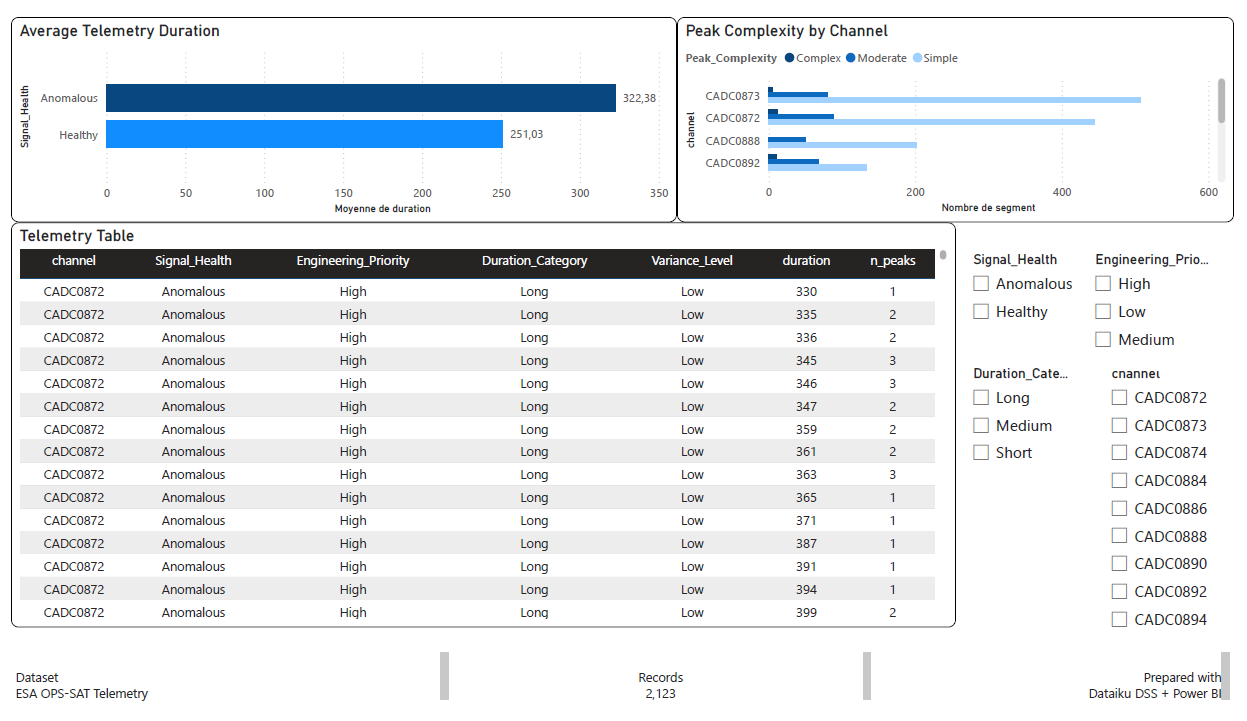

The dashboard page shown, as its layout file describes it:
{"tool":"powerbi","page":{"name":"Page 2","canvas":[1280,720],"ordinal":1},"visuals":[{"type":"tableEx","title":"Telemetry Table","fields":{"Values":["Telemetry_Feature_Engineered.channel","Telemetry_Feature_Engineered.Signal_Health","Telemetry_Feature_Engineered.Engineering_Priority","Telemetry_Feature_Engineered.Duration_Category","Telemetry_Feature_Engineered.Variance_Level","Telemetry_Feature_Engineered.duration","Telemetry_Feature_Engineered.n_peaks"]},"box":[0,214.6,988.9,424.9],"z":0},{"type":"slicer","fields":{"Values":["Telemetry_Feature_Engineered.channel"]},"box":[1138.7,360.1,141.3,299.6],"z":1000},{"type":"slicer","fields":{"Values":["Telemetry_Feature_Engineered.Signal_Health"]},"box":[994.3,241.1,137,90.3],"z":2000},{"type":"slicer","fields":{"Values":["Telemetry_Feature_Engineered.Engineering_Priority"]},"box":[1121.7,241.1,158.3,128.5],"z":3000},{"type":"slicer","fields":{"Values":["Telemetry_Feature_Engineered.Duration_Category"]},"box":[994.3,360.1,137,123.2],"z":4000},{"type":"barChart","title":"Average Telemetry Duration","fields":{"Category":["Telemetry_Feature_Engineered.Signal_Health"],"Y":["Avg(Telemetry_Feature_Engineered.duration)"]},"box":[0,0,696.8,214.6],"z":4001},{"type":"clusteredBarChart","title":"Peak Complexity by Channel","fields":{"Y":["Count(Telemetry_Feature_Engineered.segment)"],"Series":["Telemetry_Feature_Engineered.Peak_Complexity"],"Category":["Telemetry_Feature_Engineered.channel"]},"box":[696.8,0,583.2,214.6],"z":4002},{"type":"textbox","box":[0,659.7,495,60.5],"z":4003},{"type":"textbox","box":[0,659.7,463.1,60.5],"z":4004},{"type":"textbox","box":[463.1,659.7,441.9,60.5],"z":4005},{"type":"textbox","box":[913.5,659.7,366.5,60.5],"z":4006}]}

Visuals, with their boxes in screenshot pixels (x1, y1, x2, y2), scaled from the page's 1280x720 canvas onto the 1247x721 screenshot:
"Telemetry Table" tableEx: select_region(0, 215, 963, 640)
slicer - Telemetry_Feature_Engineered.channel: select_region(1109, 361, 1246, 661)
slicer - Telemetry_Feature_Engineered.Signal_Health: select_region(969, 241, 1102, 332)
slicer - Telemetry_Feature_Engineered.Engineering_Priority: select_region(1093, 241, 1246, 370)
slicer - Telemetry_Feature_Engineered.Duration_Category: select_region(969, 361, 1102, 484)
"Average Telemetry Duration" barChart: select_region(0, 0, 679, 215)
"Peak Complexity by Channel" clusteredBarChart: select_region(679, 0, 1246, 215)
textbox: select_region(0, 661, 482, 720)
textbox: select_region(0, 661, 451, 720)
textbox: select_region(451, 661, 882, 720)
textbox: select_region(890, 661, 1246, 720)
